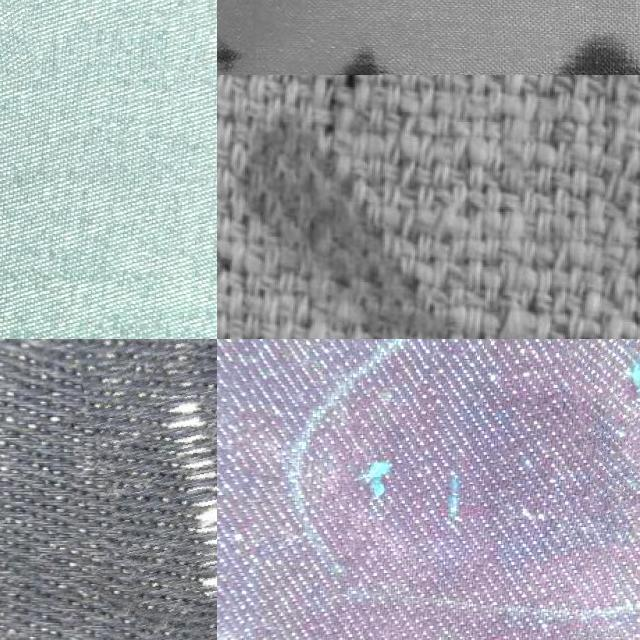Thread_other: (303, 13, 439, 75), (516, 11, 640, 75), (217, 18, 249, 78)
stains: (75, 339, 217, 640), (324, 411, 502, 570), (569, 339, 640, 506)
